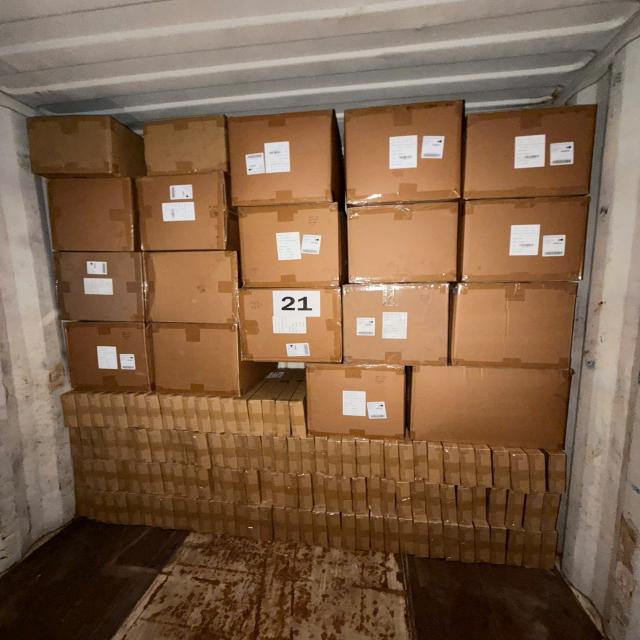Carton: (411, 364, 572, 451), (341, 100, 462, 202), (468, 103, 595, 196), (225, 109, 336, 205), (452, 284, 574, 368), (462, 199, 584, 282), (346, 202, 460, 284), (340, 284, 450, 365), (236, 205, 341, 286), (308, 361, 407, 441), (234, 289, 342, 362), (141, 249, 239, 324), (147, 322, 243, 398), (134, 173, 228, 250), (44, 177, 136, 252), (51, 250, 145, 320), (61, 318, 150, 389), (25, 115, 114, 175), (142, 113, 229, 173), (457, 524, 478, 564), (473, 524, 492, 565), (192, 431, 212, 469), (438, 484, 458, 522), (428, 518, 446, 559), (58, 392, 79, 427), (488, 488, 507, 526), (528, 454, 546, 494), (494, 450, 512, 490), (523, 528, 540, 570), (194, 397, 213, 434), (297, 472, 315, 511), (101, 457, 121, 492), (381, 477, 398, 518), (443, 520, 459, 563), (122, 394, 141, 430), (524, 491, 543, 527), (424, 484, 442, 522), (354, 516, 372, 554), (324, 512, 342, 550), (510, 452, 527, 492), (413, 518, 430, 558), (233, 434, 251, 471), (545, 493, 563, 530), (471, 486, 489, 523), (455, 486, 473, 523), (460, 448, 477, 487), (399, 517, 416, 556), (384, 516, 401, 555), (112, 393, 130, 429), (383, 442, 400, 480), (146, 429, 165, 463), (396, 480, 413, 518), (194, 464, 213, 498), (339, 513, 356, 551), (548, 453, 564, 493), (412, 440, 428, 480), (357, 438, 373, 478), (342, 438, 358, 478), (410, 480, 426, 520), (351, 476, 367, 516), (170, 462, 190, 494), (370, 514, 386, 554), (169, 396, 187, 431), (244, 469, 262, 504), (491, 524, 506, 566), (312, 511, 329, 548), (325, 475, 341, 514), (220, 432, 237, 468), (208, 466, 226, 500), (160, 460, 177, 496), (69, 456, 87, 490), (273, 436, 289, 474), (208, 431, 224, 469), (314, 436, 329, 476), (366, 476, 381, 516), (283, 470, 298, 510), (543, 529, 558, 569), (507, 526, 522, 566), (147, 458, 164, 493), (132, 428, 150, 461), (249, 399, 265, 436), (270, 470, 286, 507), (134, 461, 153, 492), (329, 436, 343, 478), (478, 448, 493, 487), (74, 392, 90, 428), (291, 402, 307, 438), (222, 398, 238, 434), (183, 396, 199, 432), (146, 398, 164, 430), (444, 449, 460, 485), (261, 436, 277, 472), (66, 426, 84, 458), (256, 506, 272, 542), (301, 436, 316, 474), (102, 426, 119, 459), (429, 444, 443, 484), (400, 442, 414, 482), (298, 510, 314, 545), (271, 508, 287, 543), (287, 437, 302, 474), (313, 474, 328, 511), (209, 398, 225, 432), (182, 463, 198, 497), (171, 497, 187, 531), (276, 400, 291, 436), (508, 492, 523, 528), (338, 478, 353, 514), (79, 425, 95, 458), (122, 459, 138, 491), (159, 396, 174, 430), (86, 458, 101, 492), (234, 399, 248, 435), (233, 468, 247, 504), (181, 431, 195, 466), (219, 465, 233, 500), (263, 399, 276, 436), (245, 504, 258, 541), (119, 429, 134, 461), (196, 496, 208, 536), (90, 393, 104, 427), (100, 393, 114, 427), (135, 395, 149, 429), (170, 430, 184, 464), (91, 425, 105, 459), (371, 440, 384, 476), (249, 436, 262, 472), (221, 500, 233, 538), (136, 493, 149, 528), (159, 430, 173, 462), (209, 499, 221, 536), (234, 502, 245, 541), (286, 507, 298, 542), (76, 488, 90, 518), (262, 469, 273, 507), (186, 497, 197, 535), (115, 490, 126, 528), (126, 492, 138, 526), (91, 490, 103, 523), (150, 494, 160, 532), (105, 490, 115, 523), (162, 495, 171, 528)
